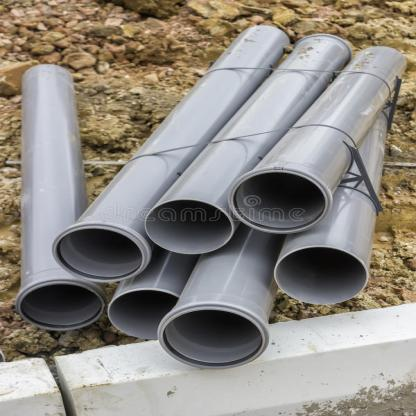pipe: (159, 304, 268, 368), (229, 167, 330, 233), (52, 223, 149, 282), (273, 245, 368, 305), (146, 198, 235, 254), (16, 280, 107, 330), (108, 288, 180, 340)
